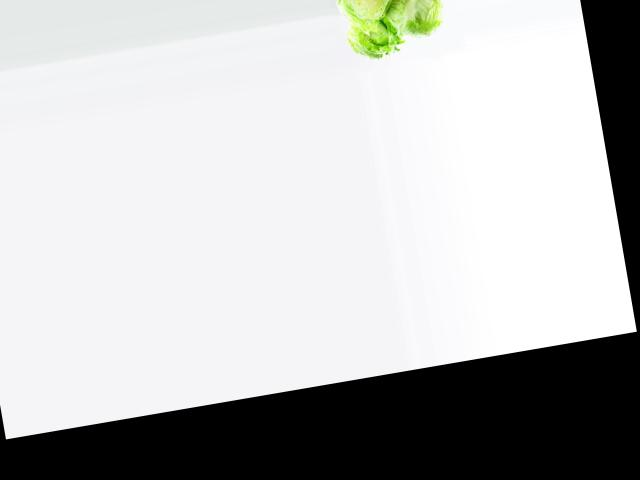lettuce: (342, 10, 410, 68)
